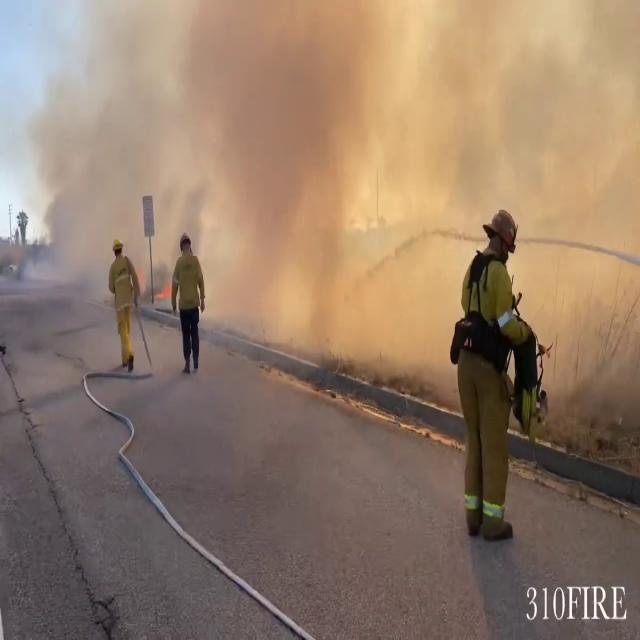Smoke: (14, 0, 637, 356)
